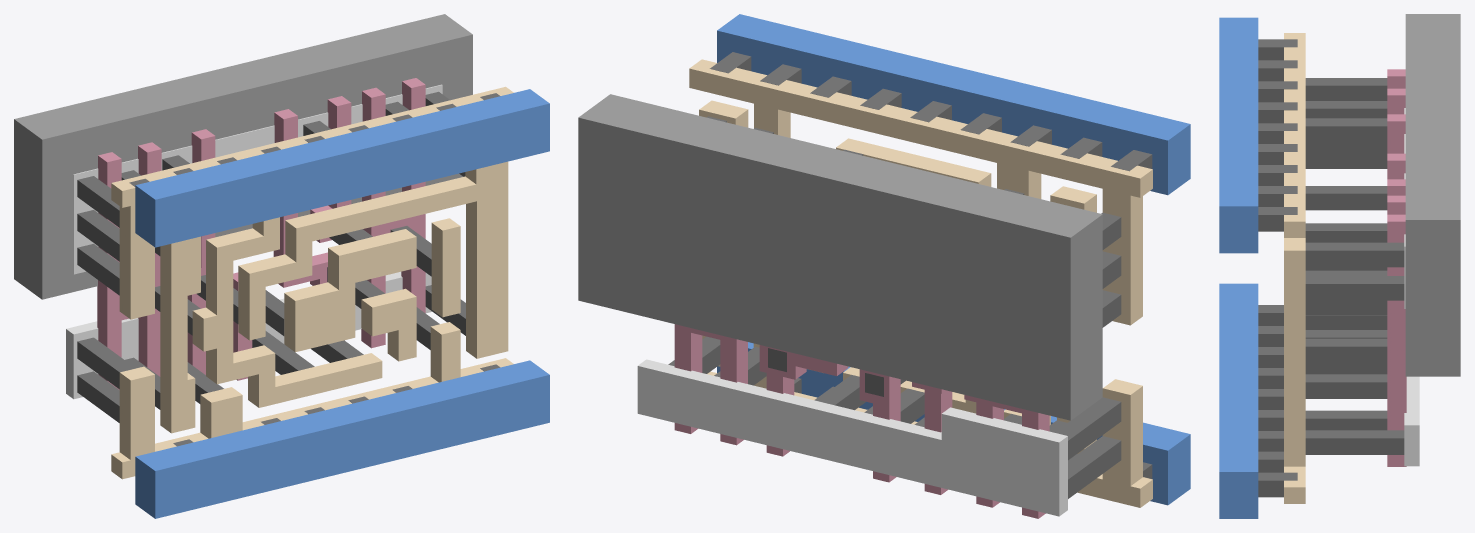
The model's file is sky130_fd_sc_hd__mux2_2.gds.gltf.
3 views of the same model, side by side, from view 1: azimuth 30°, elevation 25°; view 2: azimuth 150°, elevation 25°; view 3: azimuth 270°, elevation 25° (orthographic). The views are drawn at different scales.
Parts seen in each view (by area): view 1: sky130_fd_sc_hd__mux2_2_li1, sky130_fd_sc_hd__mux2_2_met1, sky130_fd_sc_hd__mux2_2_nwell, sky130_fd_sc_hd__mux2_2_licon, sky130_fd_sc_hd__mux2_2_poly, sky130_fd_sc_hd__mux2_2_diff, sky130_fd_sc_hd__mux2_2_mcon; view 2: sky130_fd_sc_hd__mux2_2_nwell, sky130_fd_sc_hd__mux2_2_li1, sky130_fd_sc_hd__mux2_2_diff, sky130_fd_sc_hd__mux2_2_met1, sky130_fd_sc_hd__mux2_2_licon, sky130_fd_sc_hd__mux2_2_poly, sky130_fd_sc_hd__mux2_2_mcon; view 3: sky130_fd_sc_hd__mux2_2_licon, sky130_fd_sc_hd__mux2_2_nwell, sky130_fd_sc_hd__mux2_2_met1, sky130_fd_sc_hd__mux2_2_mcon, sky130_fd_sc_hd__mux2_2_li1, sky130_fd_sc_hd__mux2_2_poly, sky130_fd_sc_hd__mux2_2_diff.
Part boxes in pixels (bbox=[...]): sky130_fd_sc_hd__mux2_2_li1: bbox=[111, 86, 513, 479]; sky130_fd_sc_hd__mux2_2_met1: bbox=[135, 89, 549, 518]; sky130_fd_sc_hd__mux2_2_nwell: bbox=[14, 14, 472, 299]; sky130_fd_sc_hd__mux2_2_licon: bbox=[77, 91, 465, 422]; sky130_fd_sc_hd__mux2_2_poly: bbox=[97, 78, 425, 389]; sky130_fd_sc_hd__mux2_2_diff: bbox=[66, 84, 442, 399]; sky130_fd_sc_hd__mux2_2_mcon: bbox=[129, 93, 500, 446]; sky130_fd_sc_hd__mux2_2_nwell: bbox=[578, 94, 1102, 420]; sky130_fd_sc_hd__mux2_2_li1: bbox=[689, 59, 1152, 507]; sky130_fd_sc_hd__mux2_2_diff: bbox=[637, 359, 1067, 516]; sky130_fd_sc_hd__mux2_2_met1: bbox=[717, 14, 1190, 505]; sky130_fd_sc_hd__mux2_2_licon: bbox=[668, 116, 1121, 498]; sky130_fd_sc_hd__mux2_2_poly: bbox=[674, 324, 1049, 518]; sky130_fd_sc_hd__mux2_2_mcon: bbox=[710, 52, 1152, 478]; sky130_fd_sc_hd__mux2_2_licon: bbox=[1305, 78, 1404, 454]; sky130_fd_sc_hd__mux2_2_nwell: bbox=[1405, 14, 1460, 376]; sky130_fd_sc_hd__mux2_2_met1: bbox=[1219, 17, 1258, 518]; sky130_fd_sc_hd__mux2_2_mcon: bbox=[1258, 39, 1297, 497]; sky130_fd_sc_hd__mux2_2_li1: bbox=[1284, 33, 1305, 503]; sky130_fd_sc_hd__mux2_2_poly: bbox=[1387, 69, 1406, 466]; sky130_fd_sc_hd__mux2_2_diff: bbox=[1404, 108, 1419, 466].
Size of the model in its own units: 4.52 by 3.2 by 2.24.
